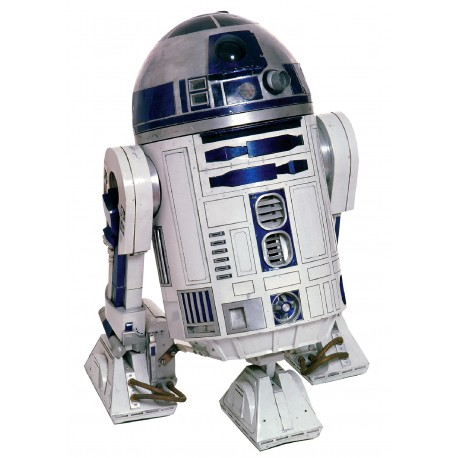r2d2: (82, 10, 370, 453)
